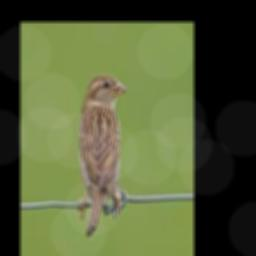Sparrow: (79, 73, 127, 236)
